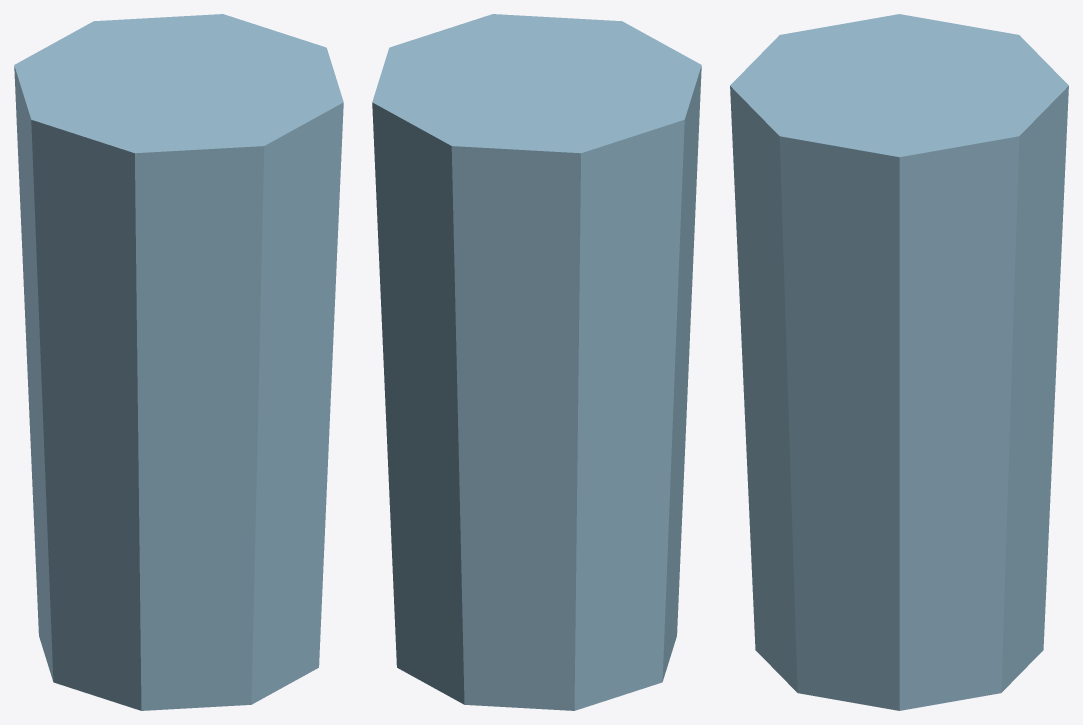
File: beer_glass.glb
The picture shows the model from 3 angles, left to right: view 1: azimuth 30°, elevation 25°; view 2: azimuth 150°, elevation 25°; view 3: azimuth 270°, elevation 25°; orthographic projection.
Visible parts, largest first — view 1: beer_glass; view 2: beer_glass; view 3: beer_glass.
Part boxes in pixels (x1=…): beer_glass: x1=14, y1=14, x2=343, y2=710; beer_glass: x1=372, y1=14, x2=701, y2=710; beer_glass: x1=730, y1=14, x2=1068, y2=710.
Size of the model in its own units: 0.08 by 0.147 by 0.08.
